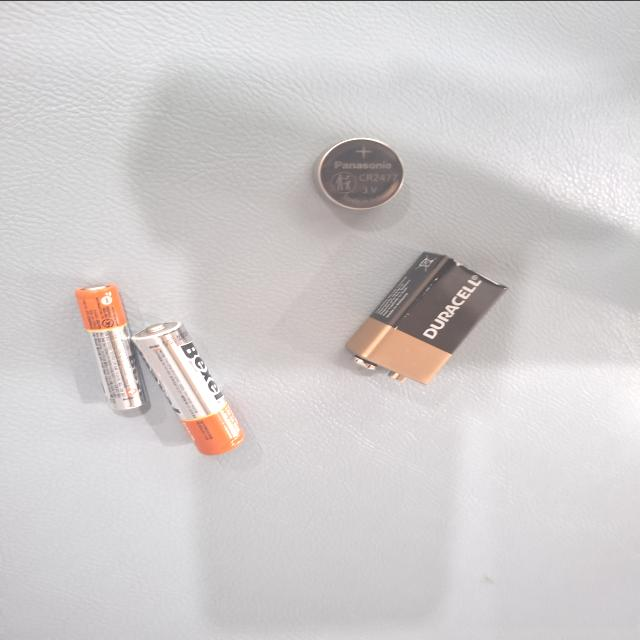9V: (133, 258, 295, 391)
AA: (398, 189, 508, 322)
AAA: (491, 227, 565, 356)
COIN: (235, 430, 325, 504)
